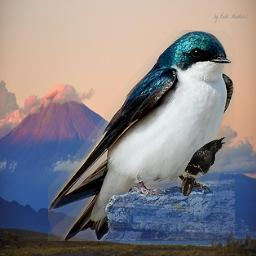Crow: (180, 136, 227, 196)
Swallow: (48, 30, 235, 241)
